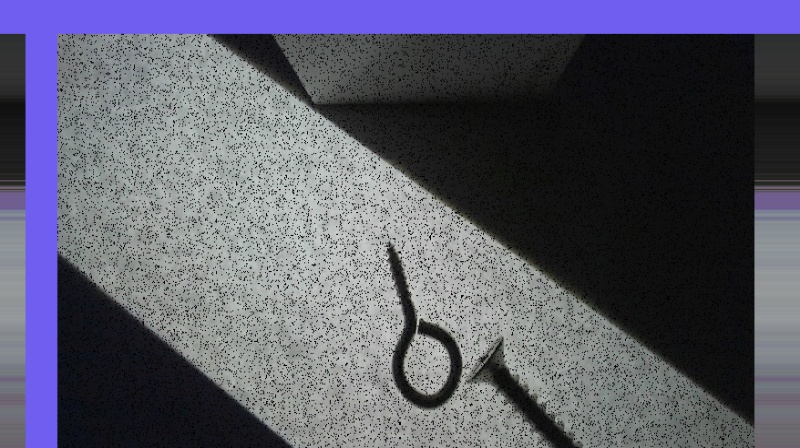O001: (377, 235, 461, 408)
S001: (463, 334, 607, 447)
